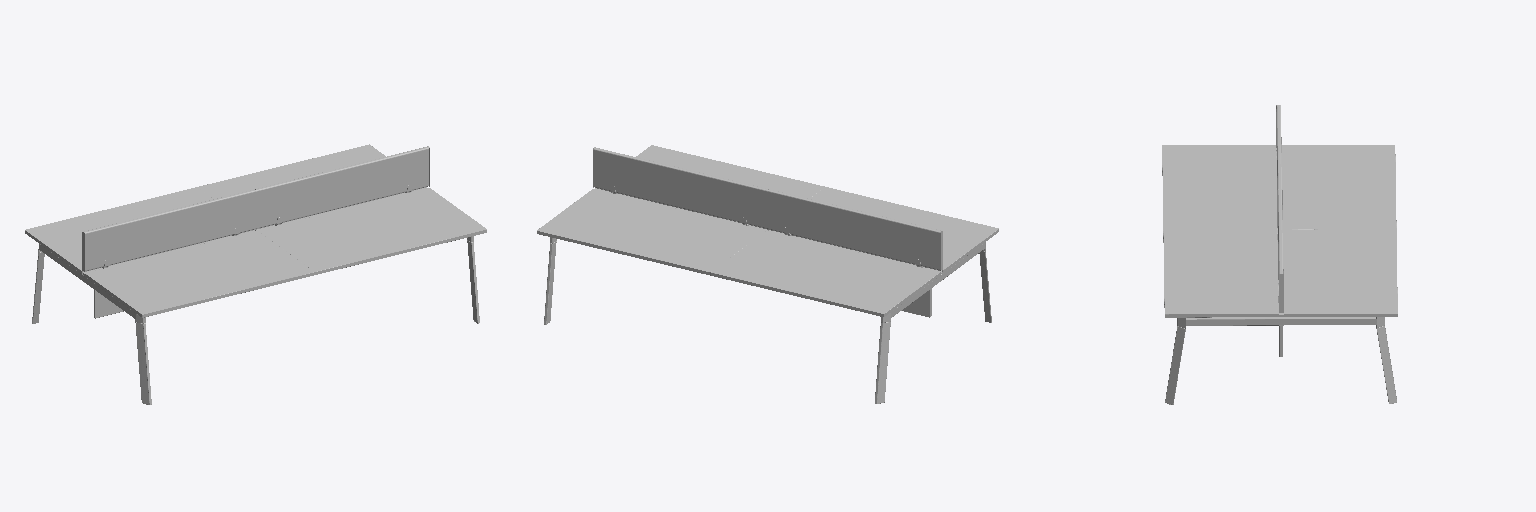
File: workstation.obj
The picture shows the model from 3 angles: view 1: azimuth 30°, elevation 25°; view 2: azimuth 150°, elevation 25°; view 3: azimuth 270°, elevation 25°; orthographic projection.
Visible parts, largest first — view 1: Archmodels_vol_89_030_042; view 2: Archmodels_vol_89_030_042; view 3: Archmodels_vol_89_030_042.
Boxes of the visible parts, box(x1,y1,x2,y2) form: Archmodels_vol_89_030_042: box(25, 144, 486, 404); Archmodels_vol_89_030_042: box(537, 145, 998, 403); Archmodels_vol_89_030_042: box(1162, 105, 1397, 404).
Size of the model in its own units: 2.81 by 1.03 by 1.65.